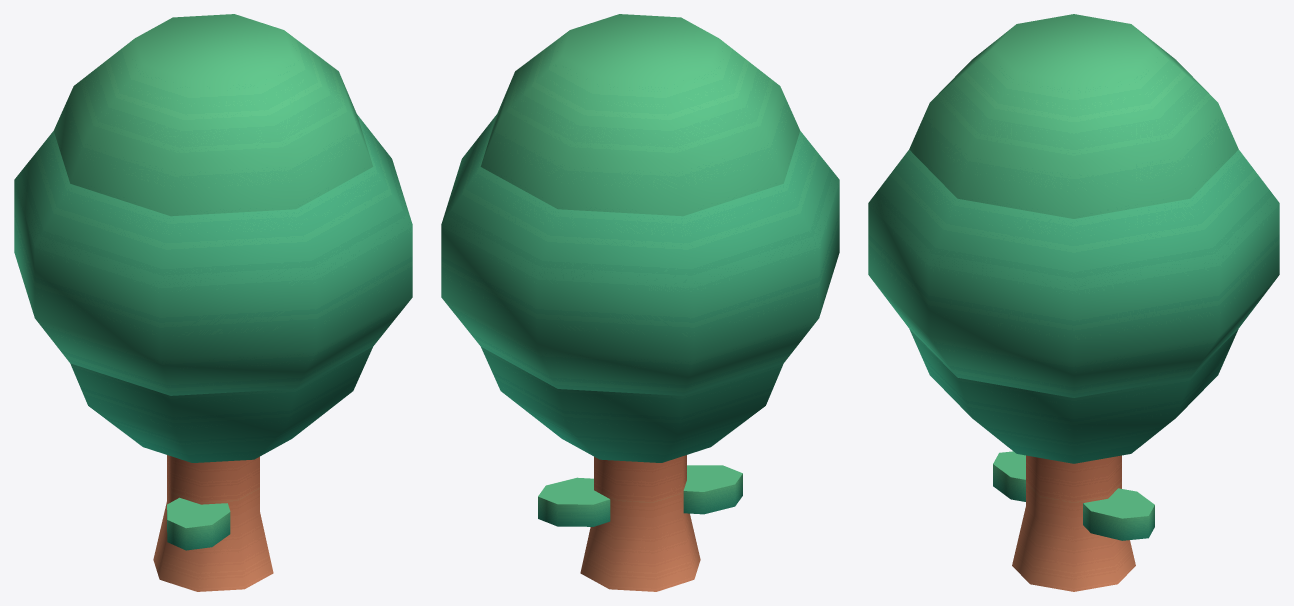
Rendered from tree.glb.
3 views of the same model, side by side, from view 1: azimuth 30°, elevation 25°; view 2: azimuth 150°, elevation 25°; view 3: azimuth 270°, elevation 25° (orthographic).
Parts seen in each view (by area): view 1: tree; view 2: tree; view 3: tree.
Part boxes in pixels (x1=…): tree: x1=14, y1=14, x2=412, y2=591; tree: x1=441, y1=14, x2=839, y2=591; tree: x1=868, y1=14, x2=1279, y2=591.
Bounding box in the file's own units: 2.57 × 3.56 × 2.57.
1 material, 1 textured.
